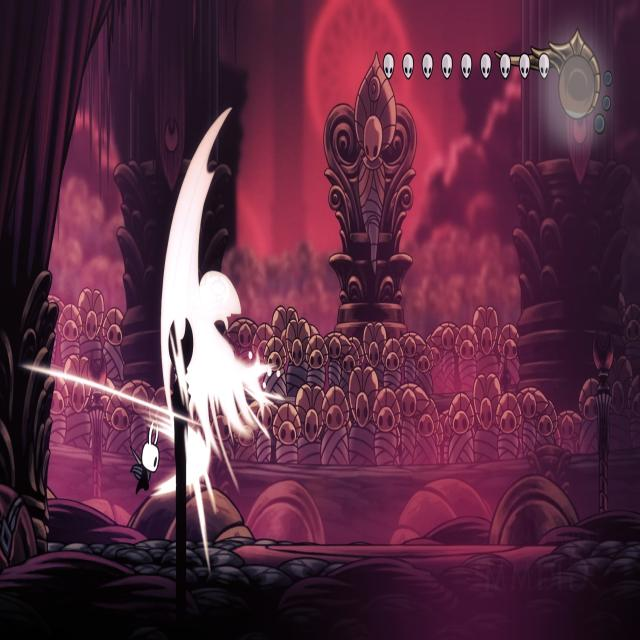Dash Uppercut: (158, 101, 282, 493)
Player: (128, 418, 162, 499)
